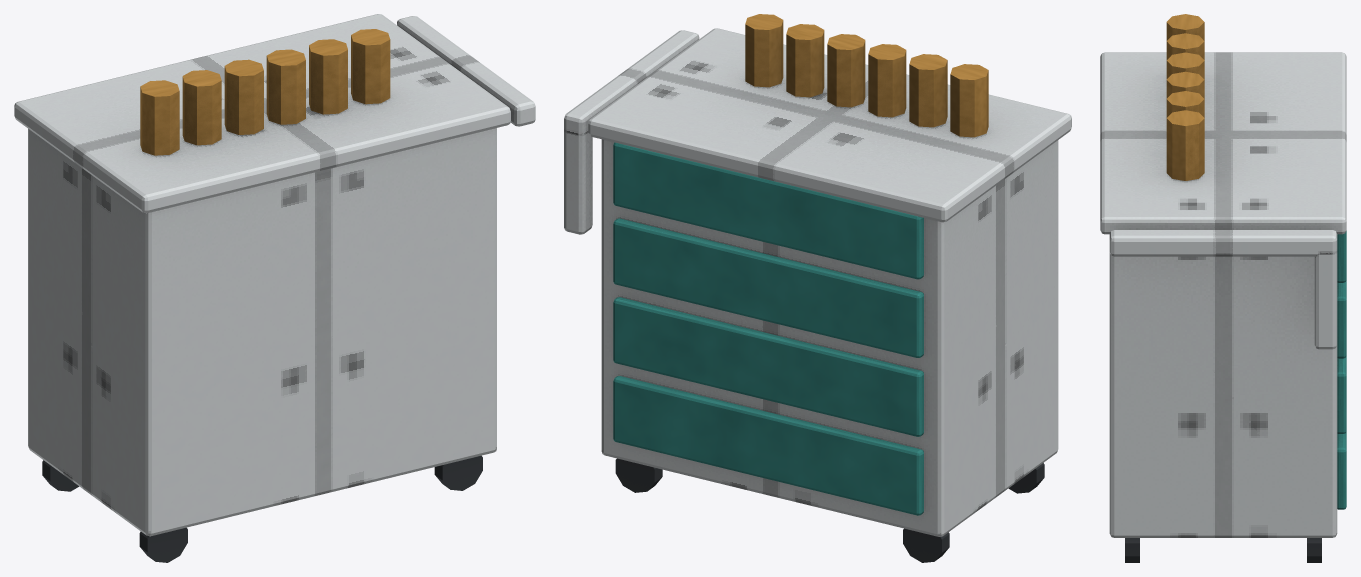
Rendered from base_med_cart.glb.
3 renders of one model, left to right at view 1: azimuth 30°, elevation 25°; view 2: azimuth 150°, elevation 25°; view 3: azimuth 270°, elevation 25°, orthographic. The views are drawn at different scales.
Visible parts, largest first — view 1: base_med_cart; view 2: base_med_cart; view 3: base_med_cart.
Boxes of the visible parts, x1=… form: base_med_cart: x1=14, y1=14, x2=535, y2=562; base_med_cart: x1=564, y1=14, x2=1071, y2=562; base_med_cart: x1=1100, y1=14, x2=1346, y2=562.
Size of the model in its own units: 1.13 by 1.21 by 0.65.
Materials: 4 (4 with a texture image).
